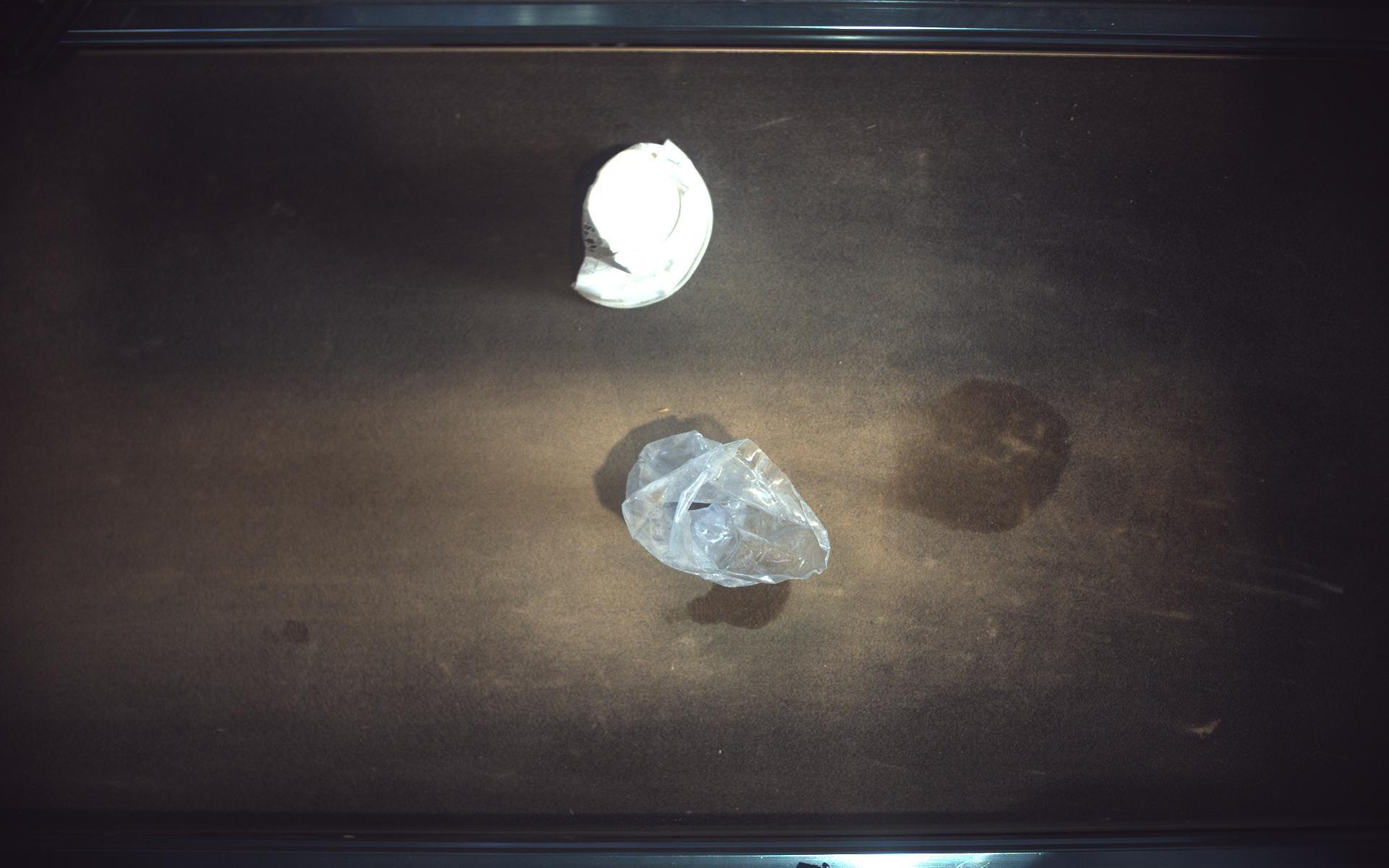general_w: (623, 432, 832, 588), (574, 139, 714, 308)
